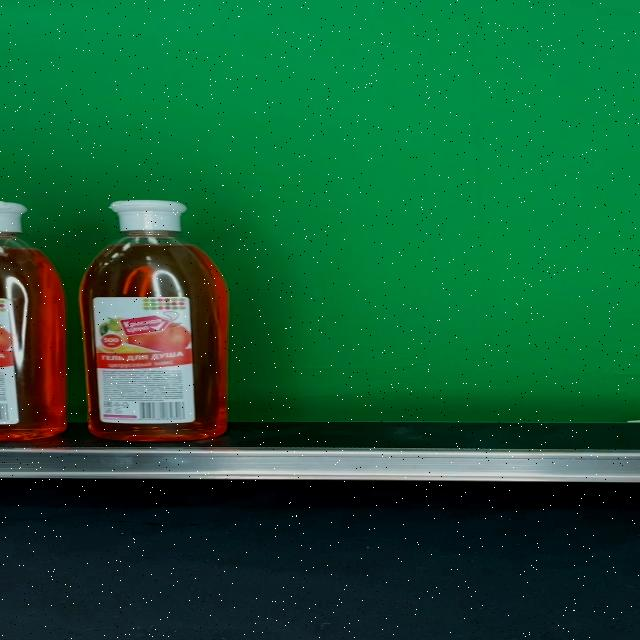Bottle: (78, 200, 229, 441)
Cap: (108, 200, 186, 232)
